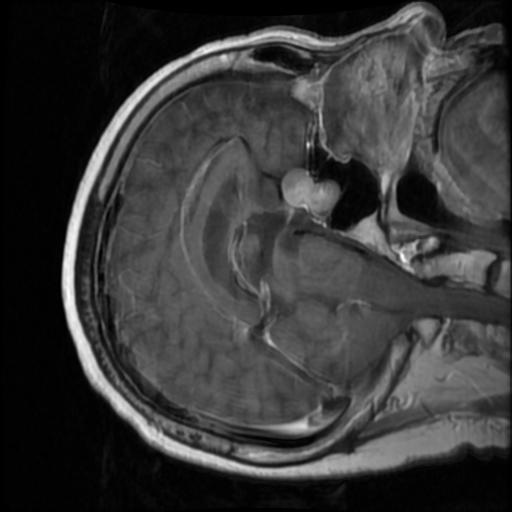pituitary tumour: (281, 167, 338, 216)
